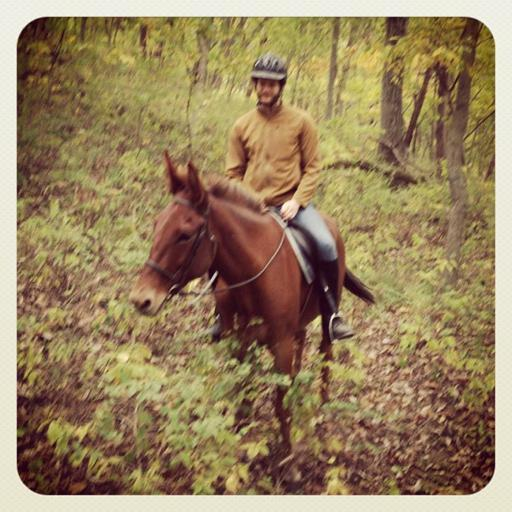horse: (128, 150, 376, 450)
